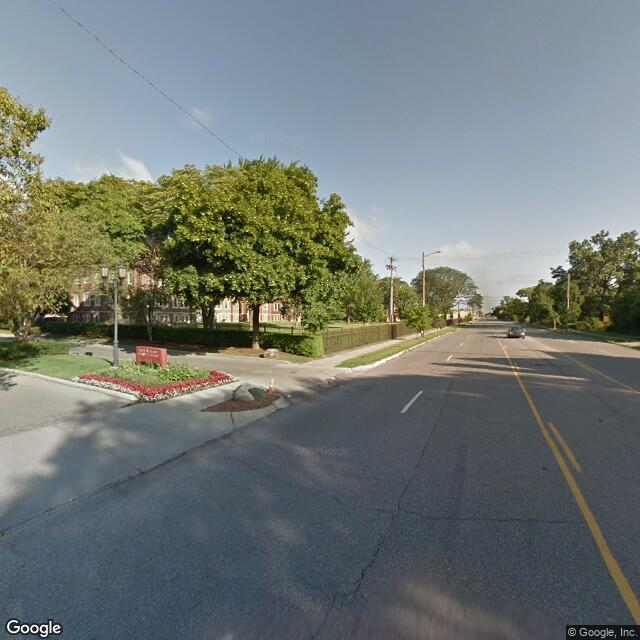litter: (284, 392, 291, 400), (409, 347, 413, 354)
